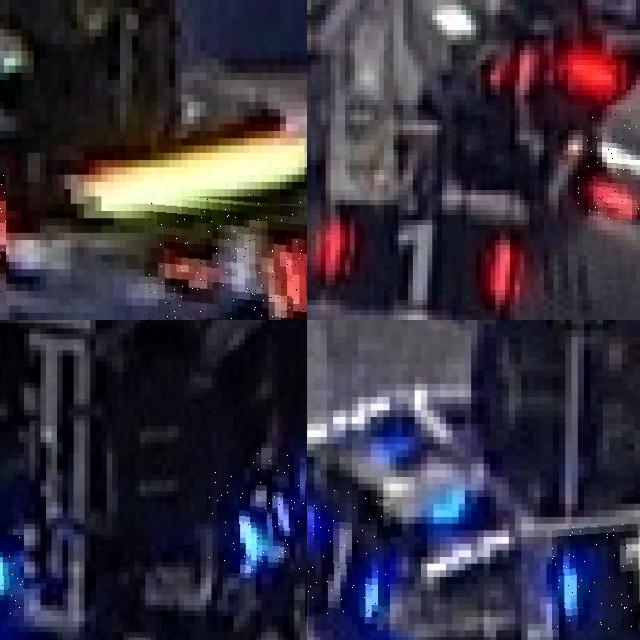B1: (307, 490, 389, 616), (552, 523, 640, 630)
B2: (206, 453, 305, 573)
R1: (311, 200, 515, 315), (577, 110, 640, 220)
R4: (147, 193, 307, 320)
